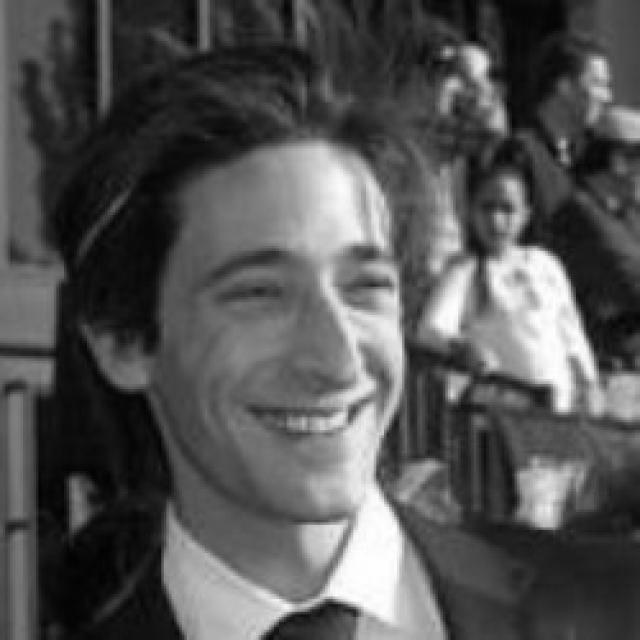real: (162, 132, 410, 526), (207, 270, 405, 315)
